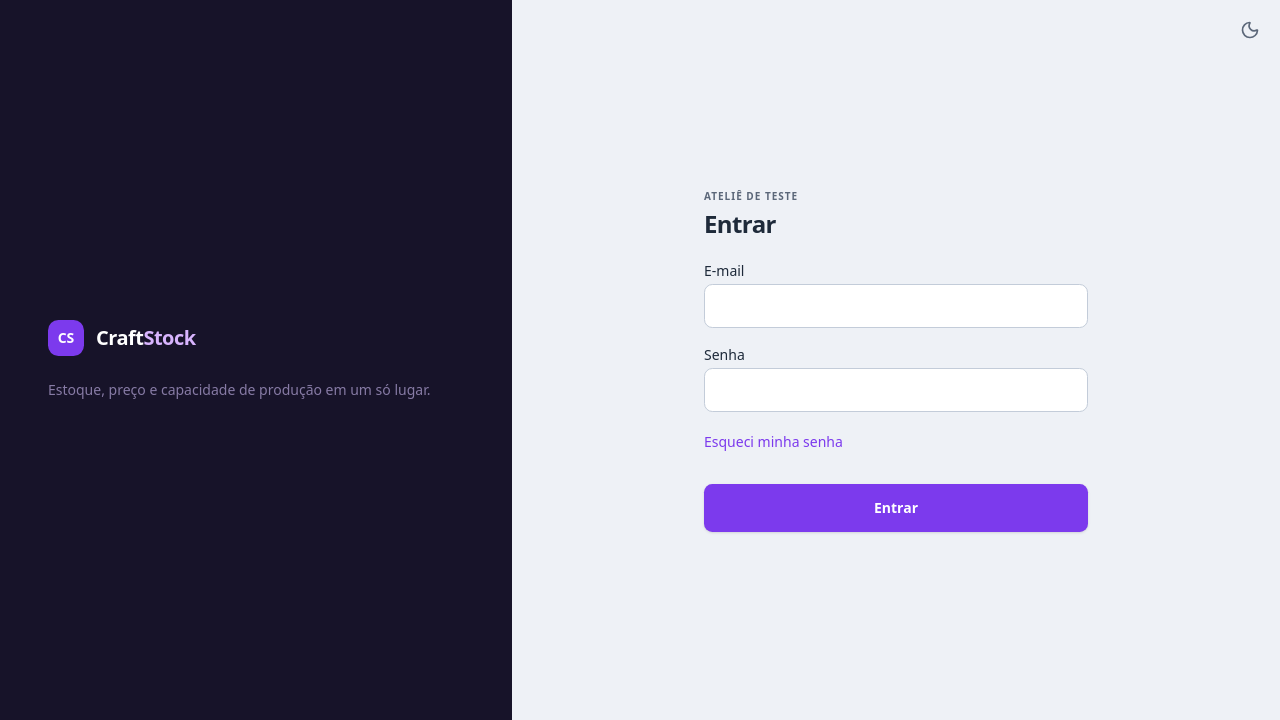
Scenario: signing in › asks for what is missing without sending anything
expect the heading "Entrar" is shown: met, box [704,206,776,240]
Click the button "Entrar": [896, 508] box [704,484,1088,532]
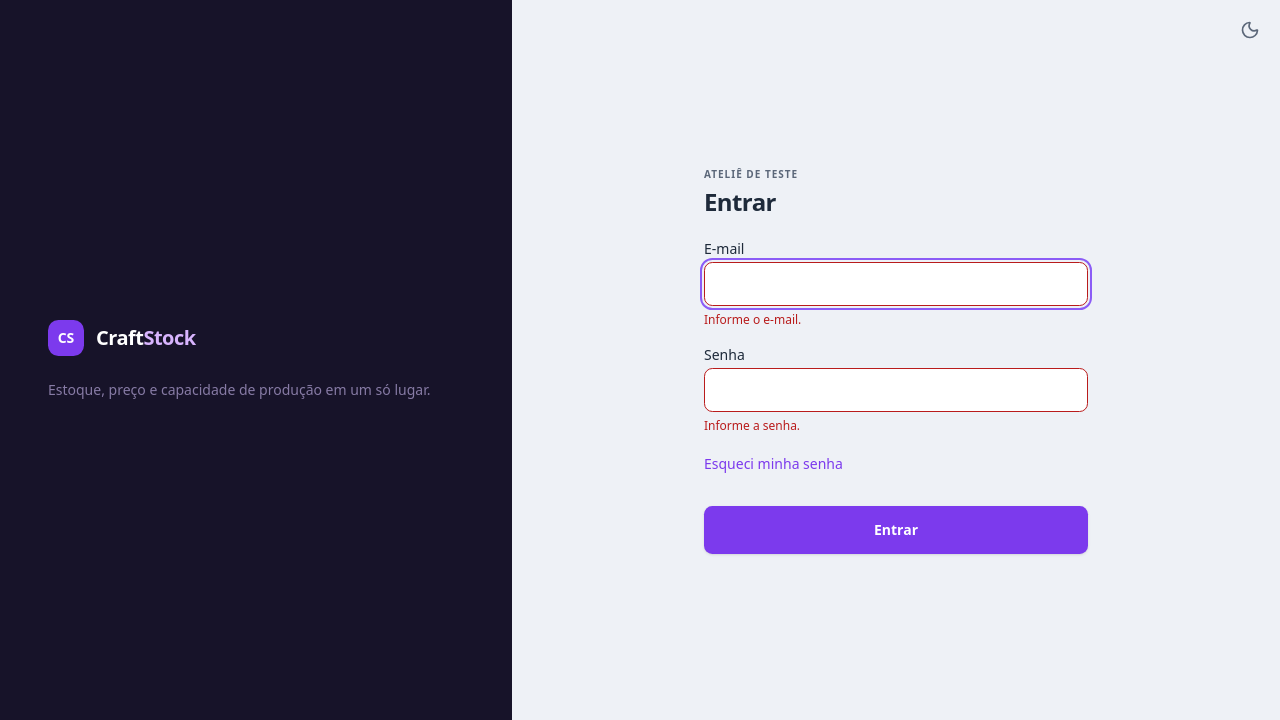
expect the text "Informe o e-mail." is shown: met, box [704,310,801,328]
expect the text "Informe a senha." is shown: met, box [704,416,800,434]
